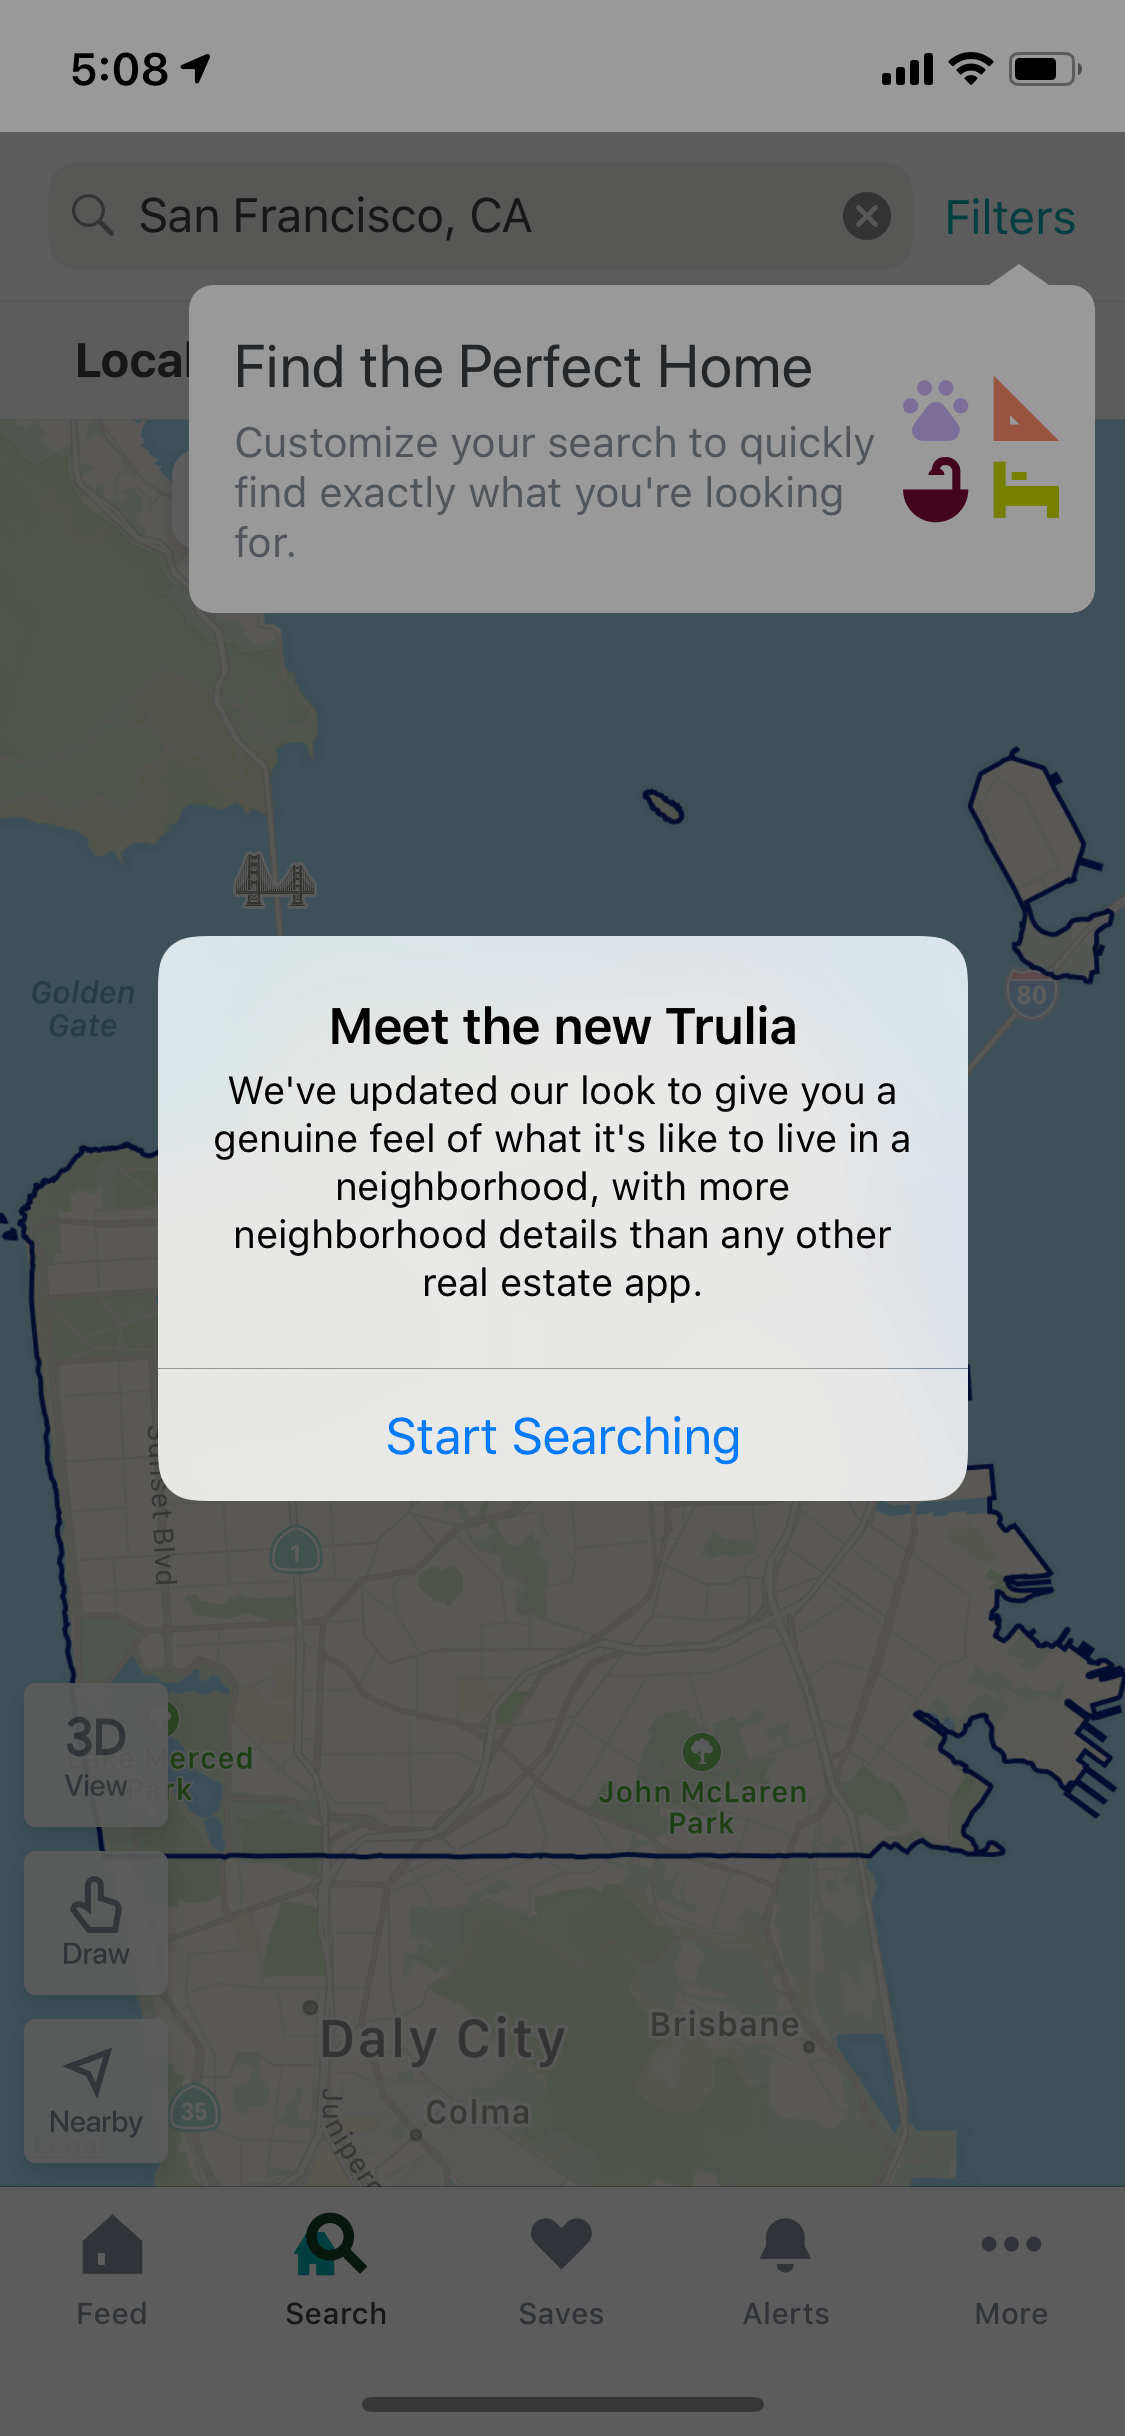Buttons: (356, 1384, 780, 1485), (921, 155, 1105, 275)
FAB (Floating Action Button): (9, 1844, 190, 2009), (12, 2013, 190, 2172), (16, 1672, 179, 1836)
